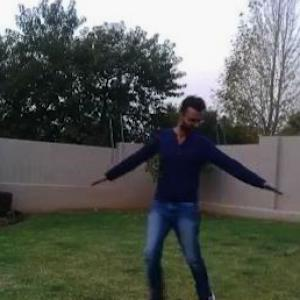land: (97, 102, 280, 299)
